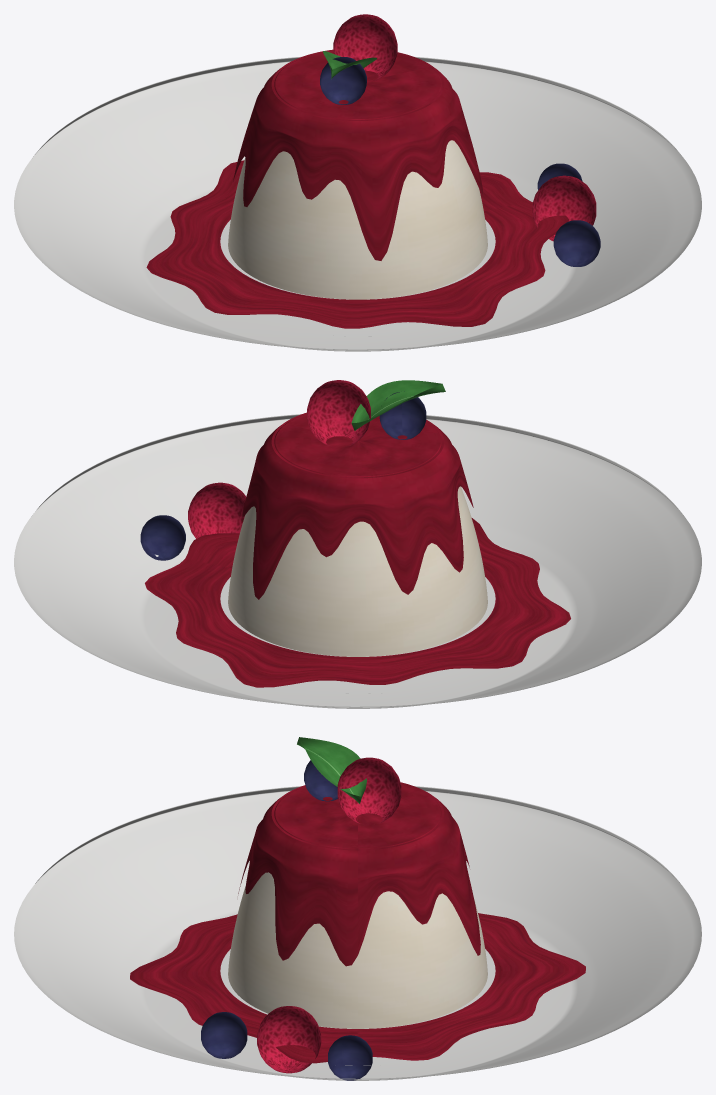
Rendered from pannacotta.glb.
3 renders of one model, top to bottom at view 1: azimuth 30°, elevation 25°; view 2: azimuth 150°, elevation 25°; view 3: azimuth 270°, elevation 25°, orthographic.
Parts seen in each view (by area): view 1: pannacotta; view 2: pannacotta; view 3: pannacotta.
Part boxes in pixels (x1,y1,x2,y2): pannacotta: (14,14,701,351); pannacotta: (14,380,701,708); pannacotta: (14,737,701,1080).
Size of the model in its own units: 0.18 by 0.0681 by 0.18.
6 materials, 5 textured.
